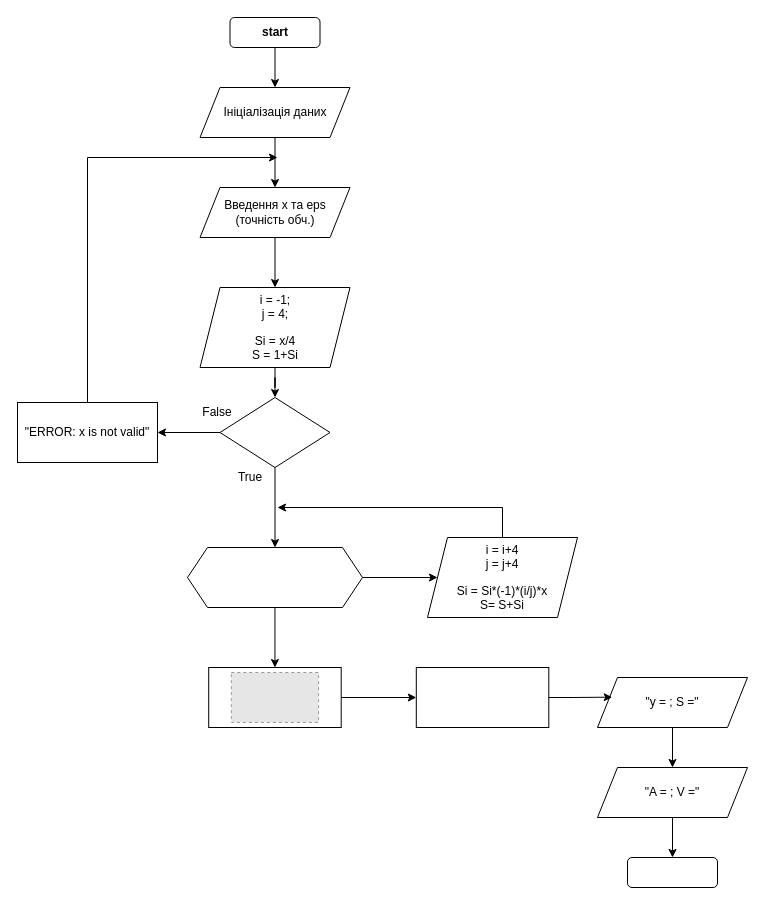
Some shapes in this 765 by 905 pixel diagram are drawn without their labels. Grey dashed boxes stand in for pictures. The shapes that lost their labels are listed below. From the top down, each one's centre as x and y in pixels, then its label:
At point (274, 432): "x ≤ 1".
At point (274, 577): "while abs(Si) > eps:".
At point (482, 697): "A = abs(y-S) V = A/abs(y)*100".
At point (672, 872): "end".
